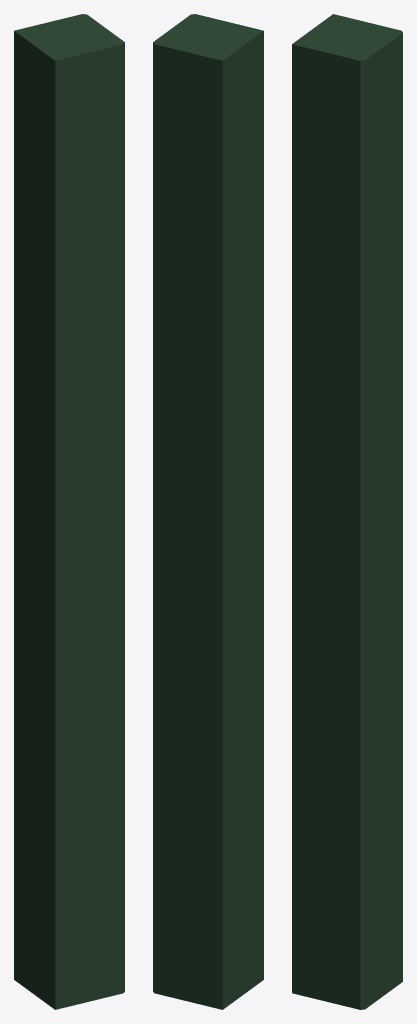
The model's file is greenhouse_pillar.gltf.
3 renders of one model, left to right at view 1: azimuth 30°, elevation 25°; view 2: azimuth 150°, elevation 25°; view 3: azimuth 330°, elevation 25°, orthographic.
Parts seen in each view (by area): view 1: Cube.004; view 2: Cube.004; view 3: Cube.004.
Boxes of the visible parts, left/top/right/bottom form: Cube.004: left=14, top=14, right=124, bottom=1009; Cube.004: left=153, top=14, right=263, bottom=1009; Cube.004: left=292, top=14, right=402, bottom=1009.
Size of the model in its own units: 0.2 by 2.54 by 0.2.
